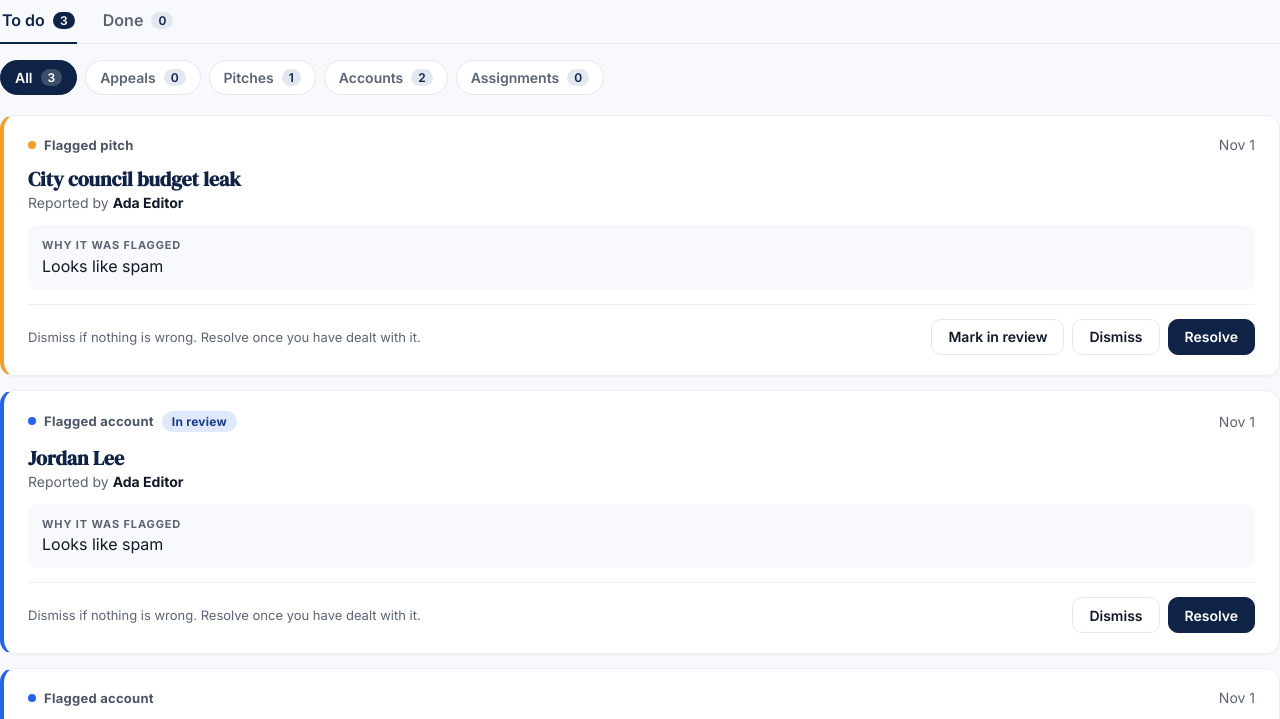
AdminInbox › Dismiss moves the flag to Done instead of deleting it
The image size is (1280, 719).
Click the 1st button "Dismiss".
click(1116, 336)  # box [1072,318,1160,354]
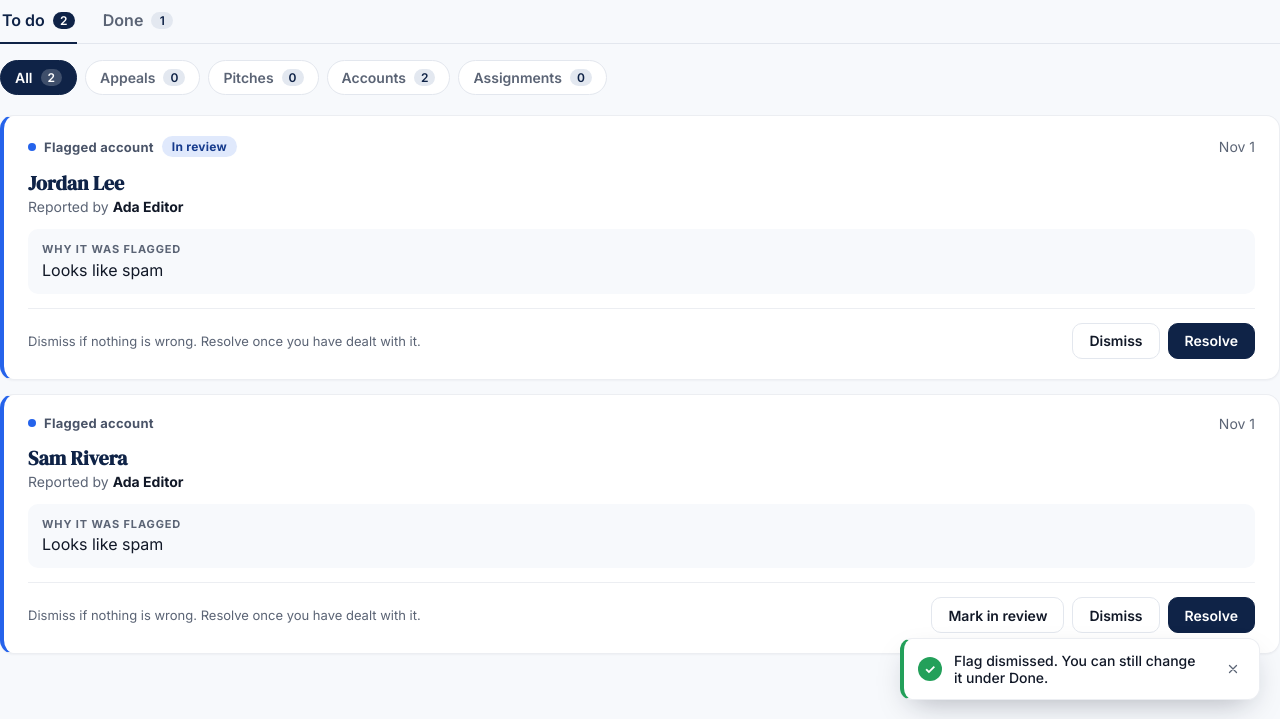
Now the text "Flag dismissed. You can still change it under Done." is shown, box [954,652,1203,686]
Now the heading "City council budget leak" is gone
Click the button "Done 1".
click(138, 22)  # box [101,0,175,44]
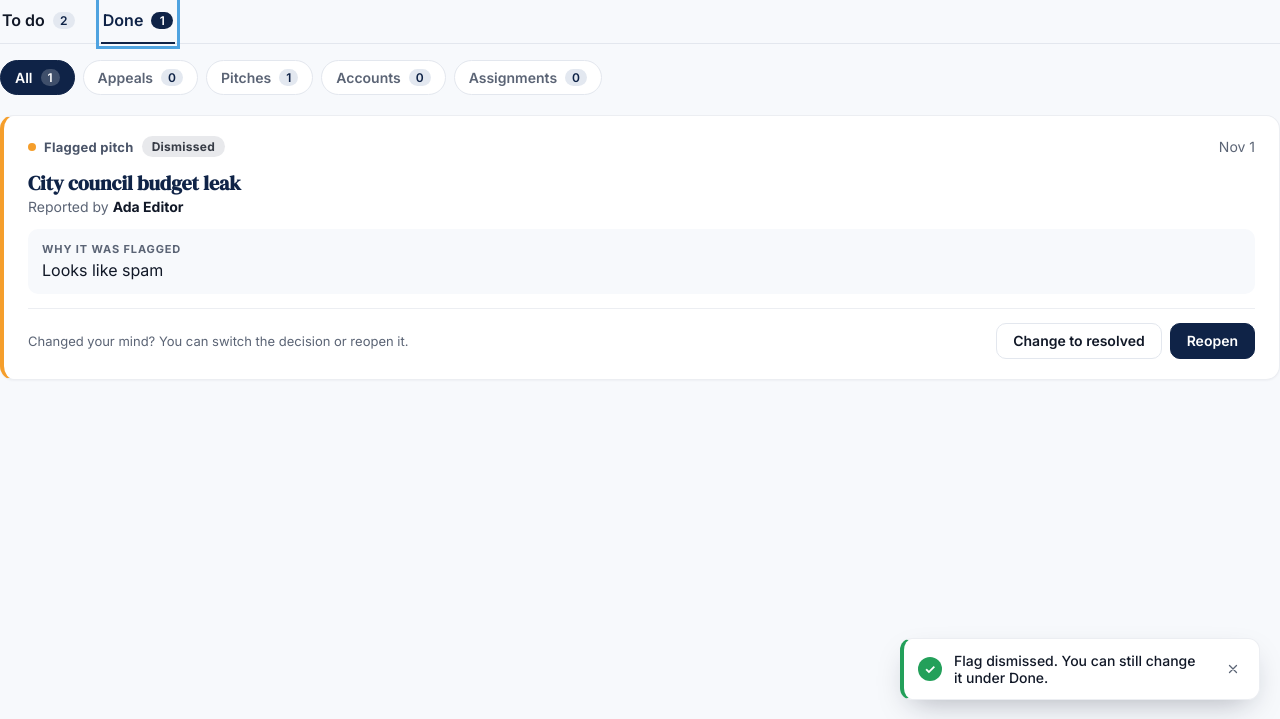
Now the text "Dismissed" is shown, box [142,136,225,157]
Now the button "Reopen" is shown, box [1170,322,1255,358]
